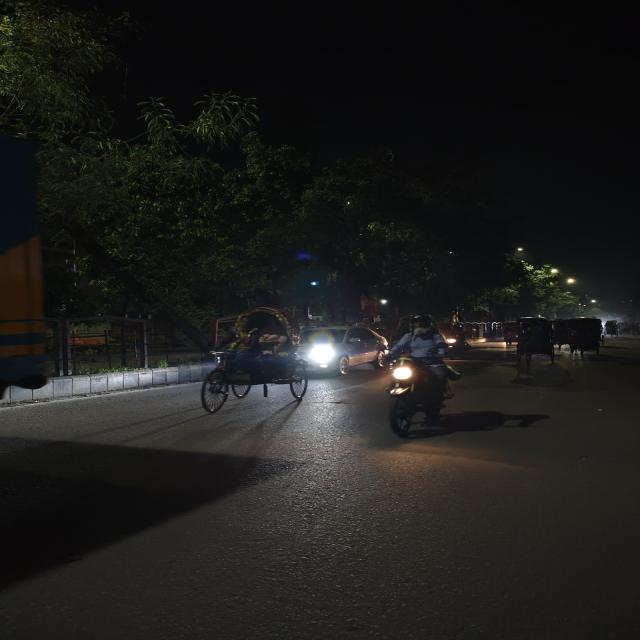car: (304, 321, 390, 377)
motorcycle: (380, 312, 468, 444)
rickshaw: (192, 304, 313, 418), (506, 313, 560, 367), (557, 315, 609, 359), (603, 319, 622, 340)
